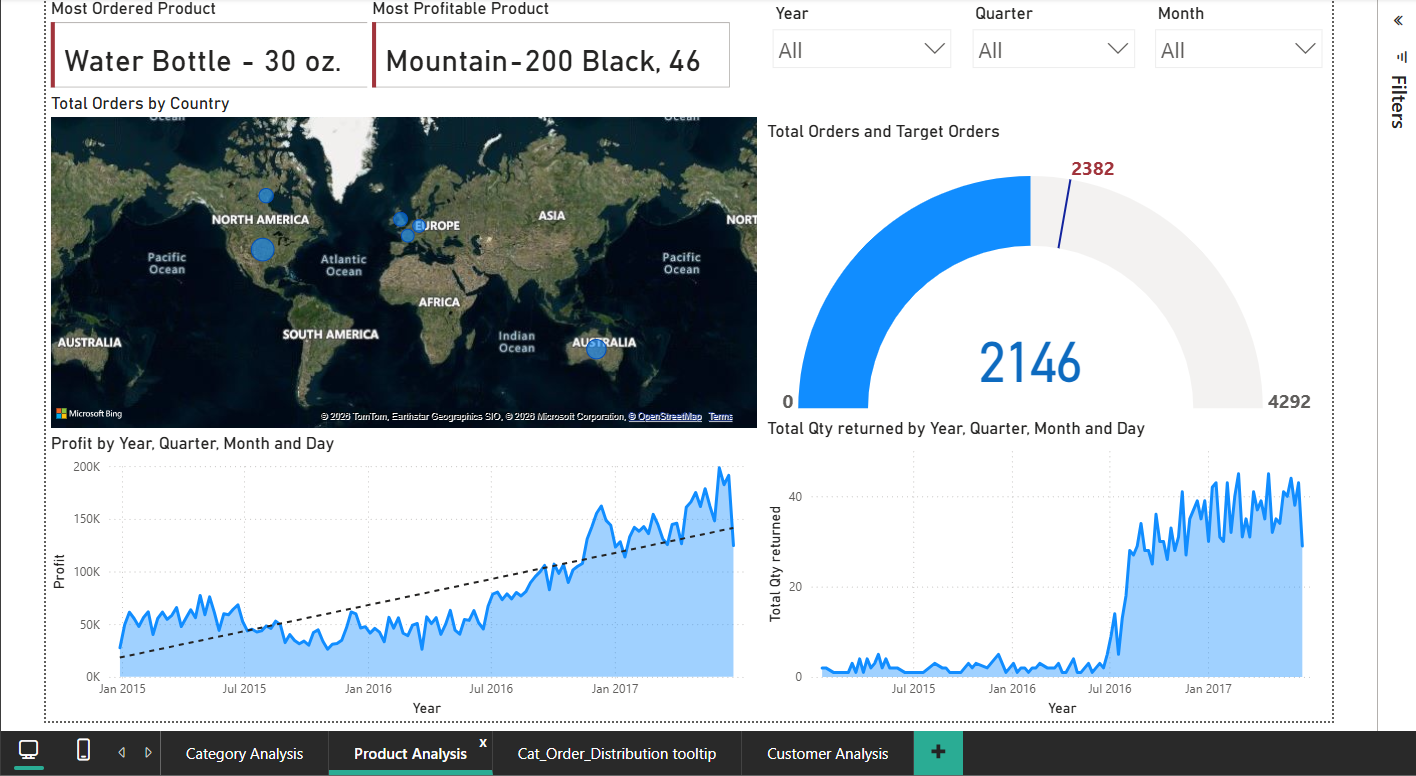

What the dashboard file says about the page in this screenshot:
{"tool":"powerbi","page":{"name":"Product Analysis","canvas":[1280,720],"ordinal":1},"visuals":[{"type":"cardVisual","title":"Most Ordered Product","fields":{"Data":["Min(Products.ProductName)"]},"box":[0,0,331.7,95],"z":0},{"type":"cardVisual","title":"Most Profitable Product","fields":{"Data":["Min(Products.ProductName)"]},"box":[320,0,366.7,95],"z":1000},{"type":"map","fields":{"Category":["Region.Country"],"Size":["Sales.Total Orders"]},"box":[0,95,713.3,338.3],"z":2000},{"type":"areaChart","fields":{"Category":["Calendar Table.Week_Start_date.Variation.Date Hierarchy.Year","Calendar Table.Week_Start_date.Variation.Date Hierarchy.Quarter","Calendar Table.Week_Start_date.Variation.Date Hierarchy.Month","Calendar Table.Week_Start_date.Variation.Date Hierarchy.Day"],"Y":["Sales.Profit"]},"box":[0,433.3,713.3,286.7],"z":3000},{"type":"areaChart","fields":{"Category":["Calendar Table.Week_Start_date.Variation.Date Hierarchy.Year","Calendar Table.Week_Start_date.Variation.Date Hierarchy.Quarter","Calendar Table.Week_Start_date.Variation.Date Hierarchy.Month","Calendar Table.Week_Start_date.Variation.Date Hierarchy.Day"],"Y":["Sales.Total Qty returned"]},"box":[713.3,418.3,566.7,301.7],"z":4000},{"type":"gauge","fields":{"Y":["Sales.Total Orders"],"TargetValue":["Sales.Target Orders"]},"box":[713.3,121.7,566.7,296.7],"z":5000},{"type":"slicer","fields":{"Values":["Calendar Table.Year"]},"box":[713.3,0,198.3,96.7],"z":6000},{"type":"slicer","fields":{"Values":["Calendar Table.Date.Variation.Date Hierarchy.Quarter"]},"box":[911.7,0,181.7,95],"z":7000},{"type":"slicer","fields":{"Values":["Calendar Table.Date.Variation.Date Hierarchy.Month"]},"box":[1093.3,0,186.7,95],"z":8000}]}

Visuals, with their boxes on the page's 1280x720 design canvas (x1, y1, x2, y2). These are canvas units, not pixel positions in the 1416x776 screenshot, which may show the page scaled, cropped or inside an application window:
"Most Ordered Product" cardVisual: 0, 0, 332, 95
"Most Profitable Product" cardVisual: 320, 0, 687, 95
map - Region.Country x Sales.Total Orders: 0, 95, 713, 433
areaChart - Calendar Table.Week_Start_date.Variation.Date Hierarchy.Year x Calendar Table.Week_Start_date.Variation.Date Hierarchy.Quarter: 0, 433, 713, 720
areaChart - Calendar Table.Week_Start_date.Variation.Date Hierarchy.Year x Calendar Table.Week_Start_date.Variation.Date Hierarchy.Quarter: 713, 418, 1280, 720
gauge - Sales.Total Orders x Sales.Target Orders: 713, 122, 1280, 418
slicer - Calendar Table.Year: 713, 0, 912, 97
slicer - Calendar Table.Date.Variation.Date Hierarchy.Quarter: 912, 0, 1093, 95
slicer - Calendar Table.Date.Variation.Date Hierarchy.Month: 1093, 0, 1280, 95
